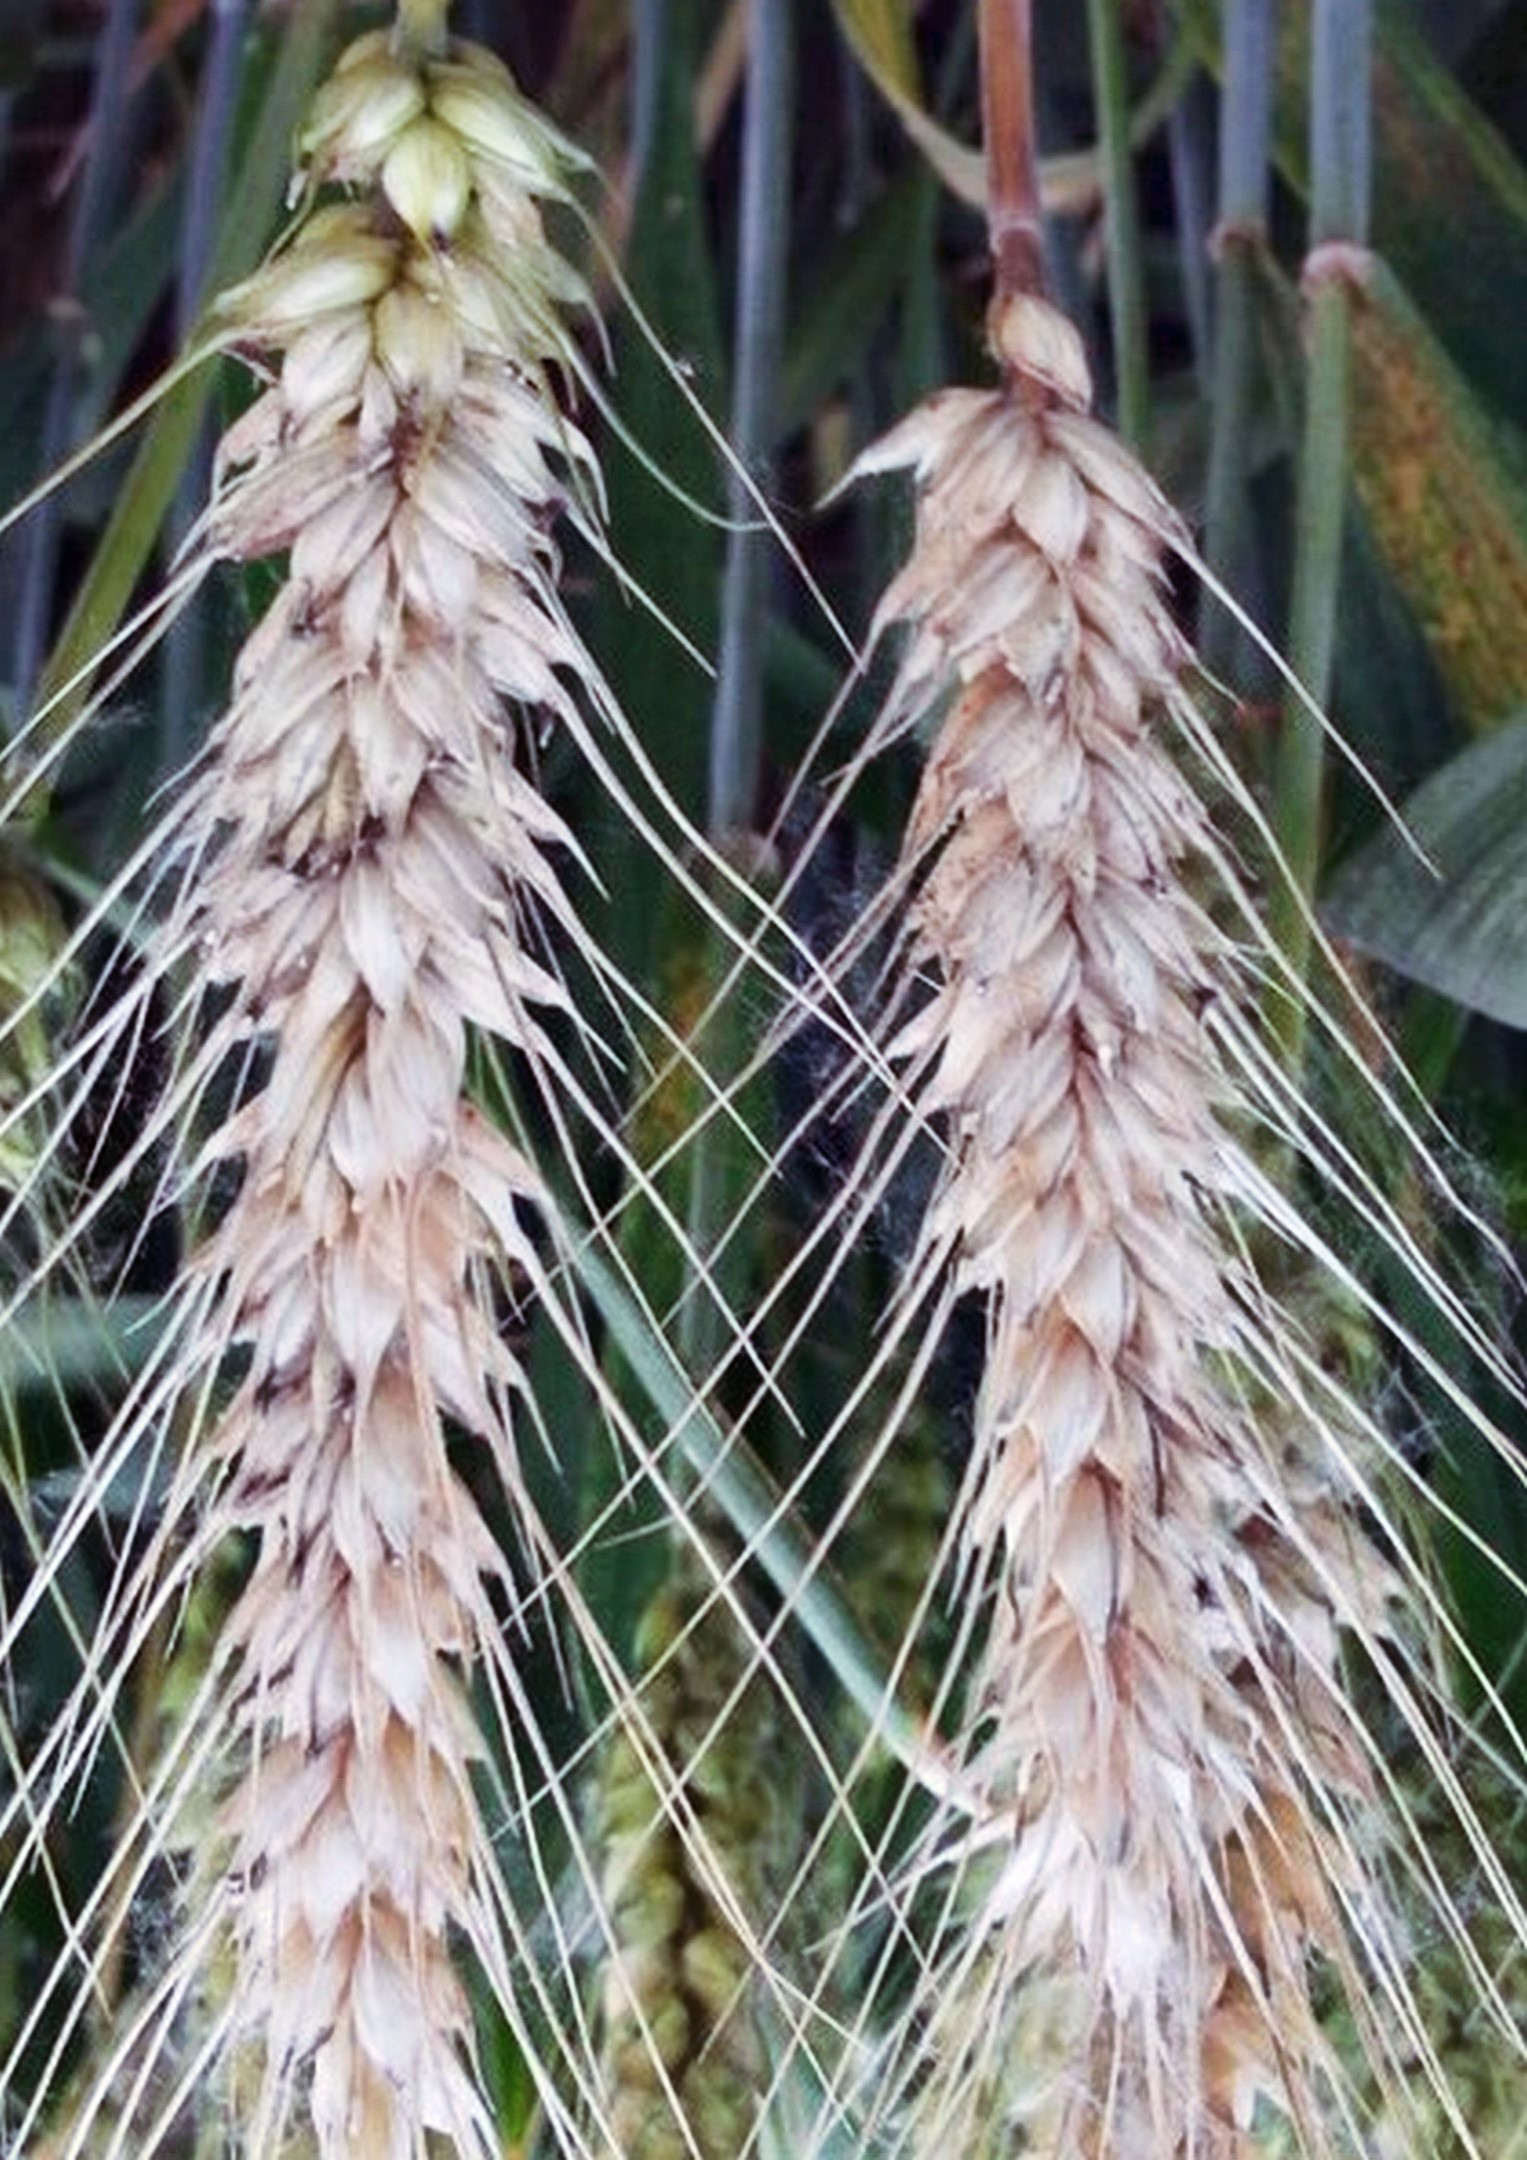Wheat scab: (826, 273, 1297, 1939), (136, 50, 615, 1215)
